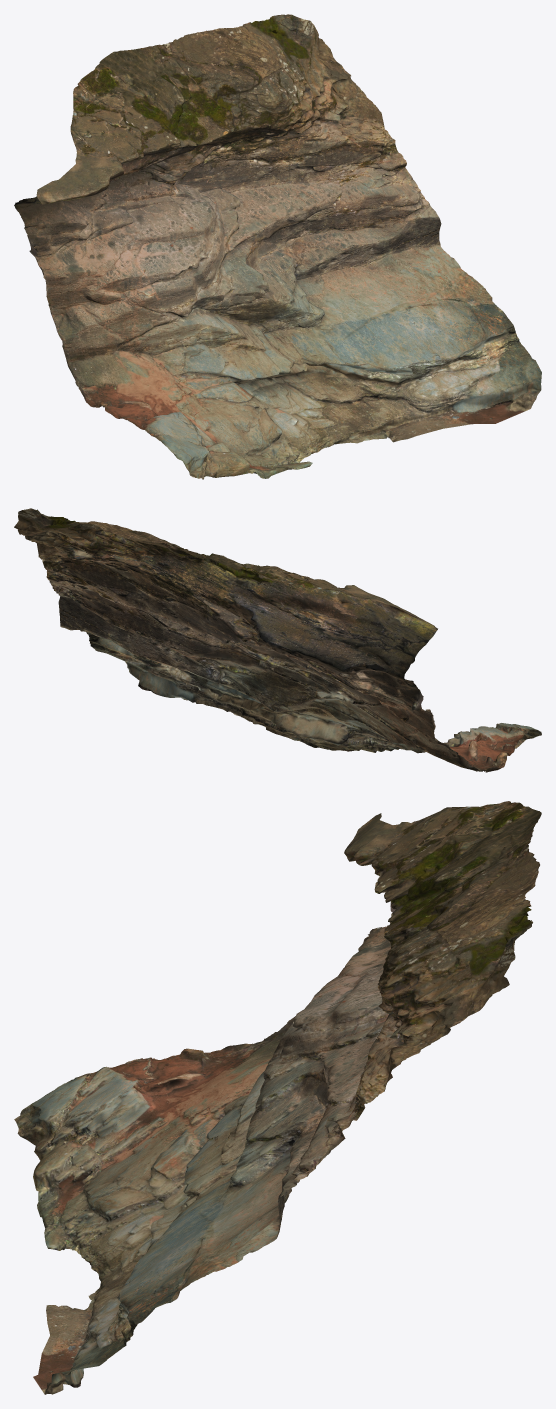
The model's file is rock.glb.
The picture shows the model from 3 angles, top to bottom: view 1: azimuth 30°, elevation 25°; view 2: azimuth 150°, elevation 25°; view 3: azimuth 270°, elevation 25°; orthographic projection. The views are drawn at different scales.
Parts seen in each view (by area): view 1: rock_face_01; view 2: rock_face_01; view 3: rock_face_01.
Part boxes in pixels (left/top/right/bottom): rock_face_01: left=14, top=14, right=541, bottom=479; rock_face_01: left=14, top=508, right=541, bottom=772; rock_face_01: left=14, top=801, right=541, bottom=1394.
Size of the model in its own units: 7.11 by 4.98 by 5.62.
Materials: 1 (1 with a texture image).
